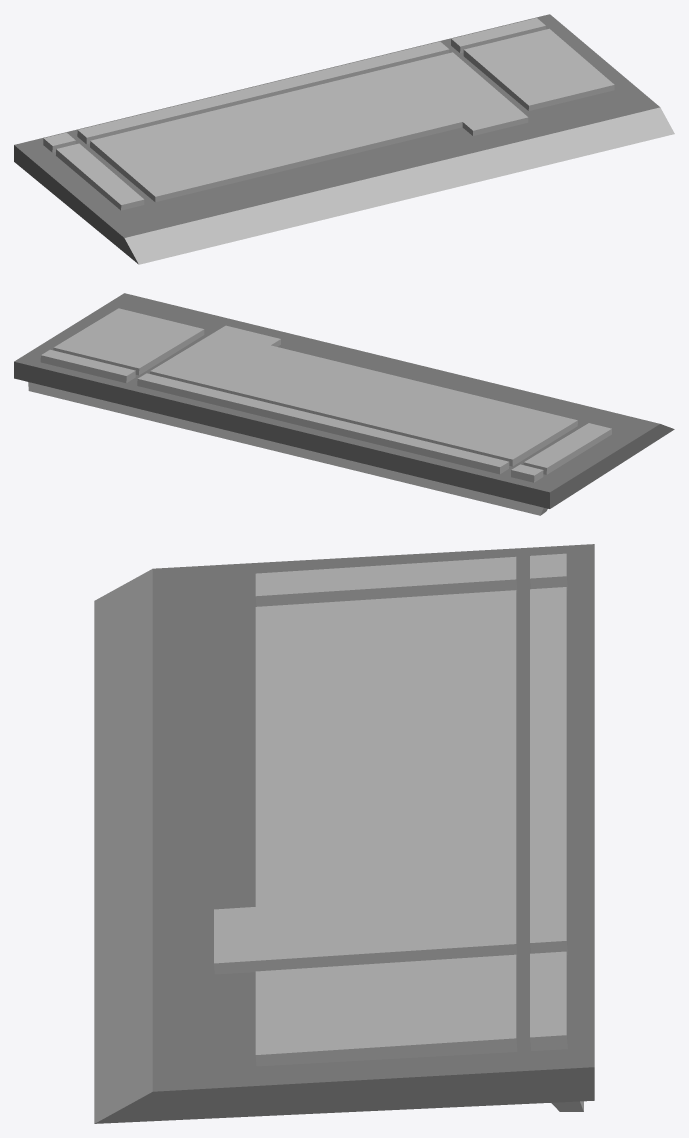
The model's file is keyboard.glb.
3 views of the same model, one above another, from view 1: azimuth 30°, elevation 25°; view 2: azimuth 150°, elevation 25°; view 3: azimuth 270°, elevation 25° (orthographic). The views are drawn at different scales.
Parts seen in each view (by area): view 1: Keyboard; view 2: Keyboard; view 3: Keyboard.
Part boxes in pixels (<box>): Keyboard: <box>14,14,674,264</box>; Keyboard: <box>14,293,674,515</box>; Keyboard: <box>94,544,594,1123</box>.
Size of the model in its own units: 50.41 by 3.11 by 20.37.
Materials: 1 (1 with a texture image).
